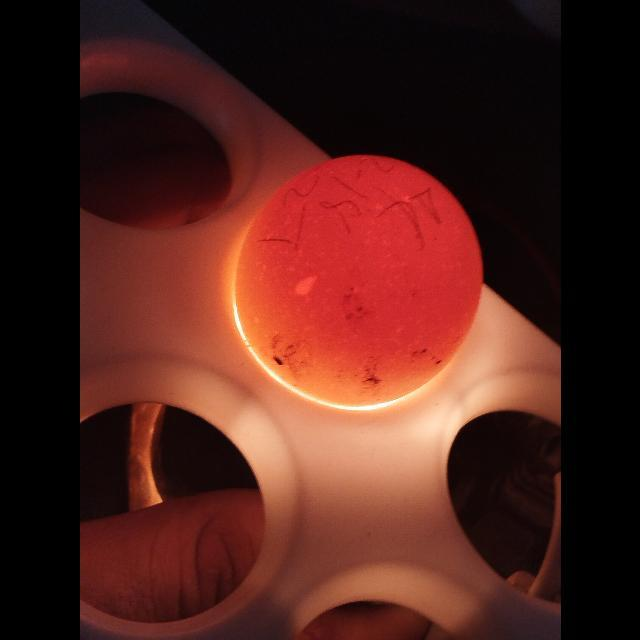Infertile: (232, 153, 484, 409)
